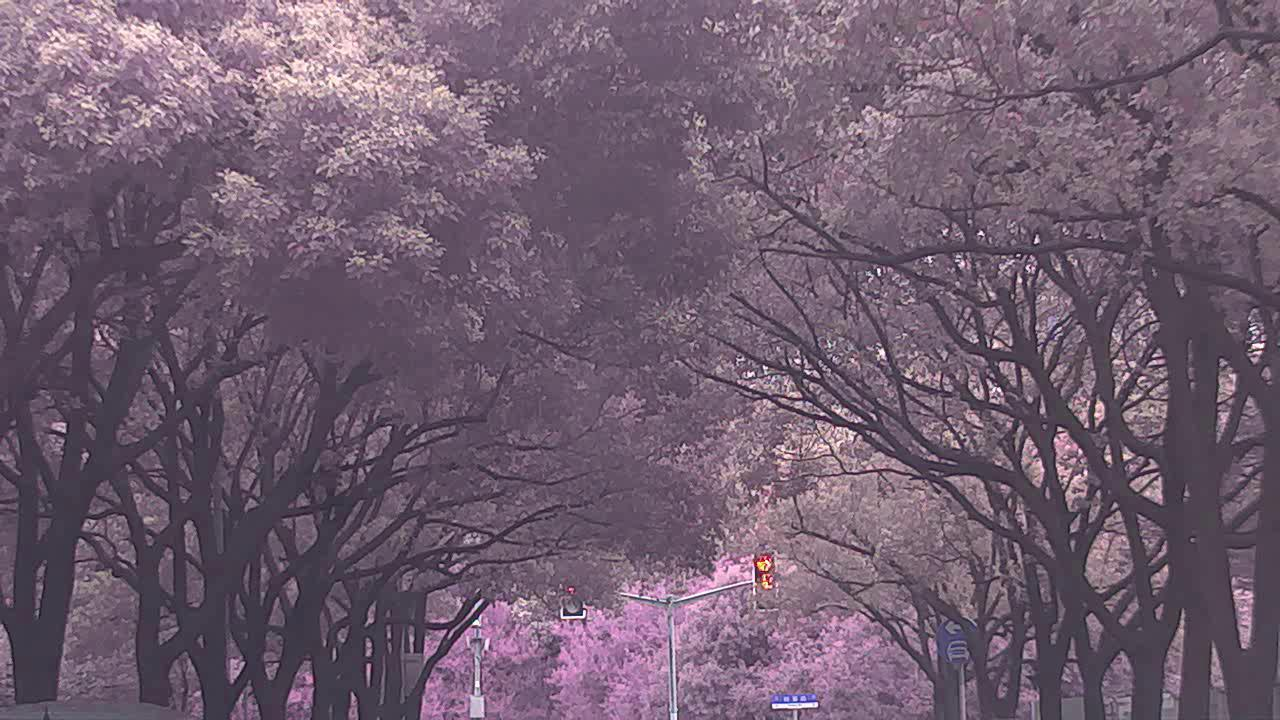traffic_light: (755, 551, 776, 616)
